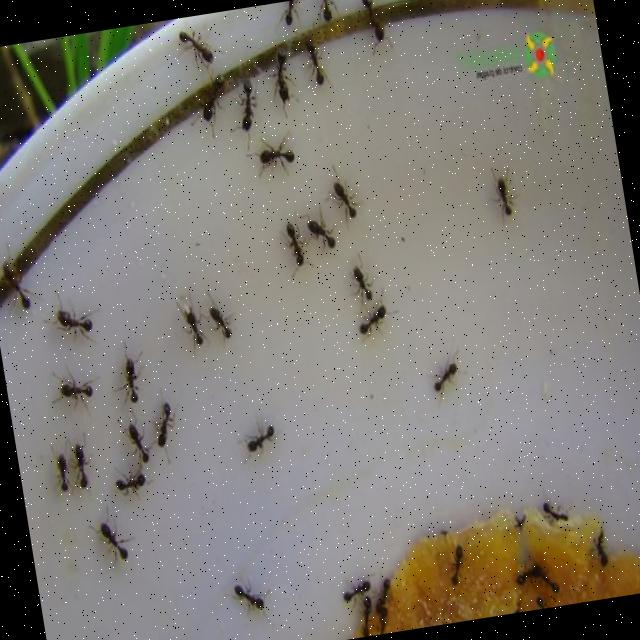Minor: (40, 285, 104, 351), (222, 76, 268, 152), (140, 390, 182, 466), (105, 338, 149, 409), (47, 361, 101, 418), (320, 160, 362, 230), (352, 286, 401, 344), (244, 131, 298, 183), (175, 23, 226, 78), (424, 348, 470, 408), (262, 45, 300, 116), (115, 404, 154, 471), (61, 432, 98, 496), (234, 411, 278, 464), (298, 200, 338, 258), (277, 220, 315, 280), (298, 23, 330, 88), (202, 286, 235, 348), (486, 164, 520, 224), (175, 292, 207, 352), (345, 250, 376, 306), (111, 465, 153, 500)
